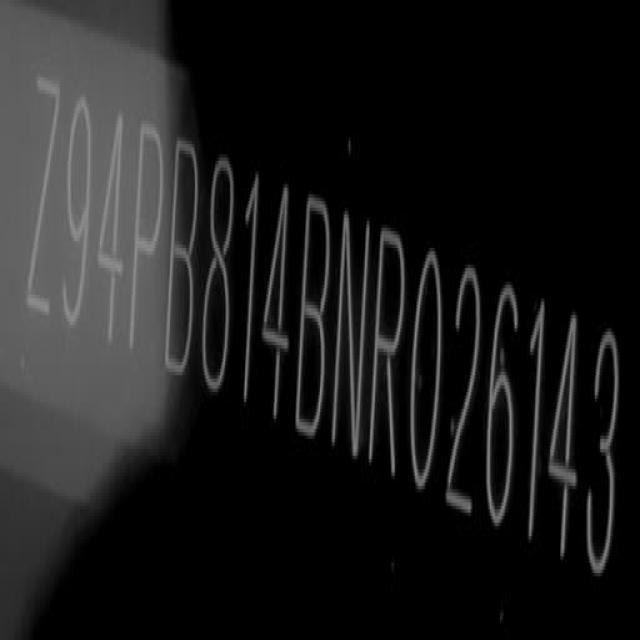0: (408, 251, 443, 490)
1: (525, 302, 547, 548), (243, 176, 262, 418)
2: (445, 256, 480, 515)
3: (586, 322, 622, 580)
4: (548, 319, 582, 556), (261, 177, 292, 422), (97, 105, 126, 344)
6: (485, 284, 522, 532)
8: (202, 155, 235, 397)
9: (63, 90, 95, 332)
B: (165, 136, 198, 378), (298, 192, 330, 438)
N: (331, 208, 370, 456)
P: (130, 116, 164, 358)
R: (372, 218, 406, 482)
Z: (26, 65, 62, 322)
